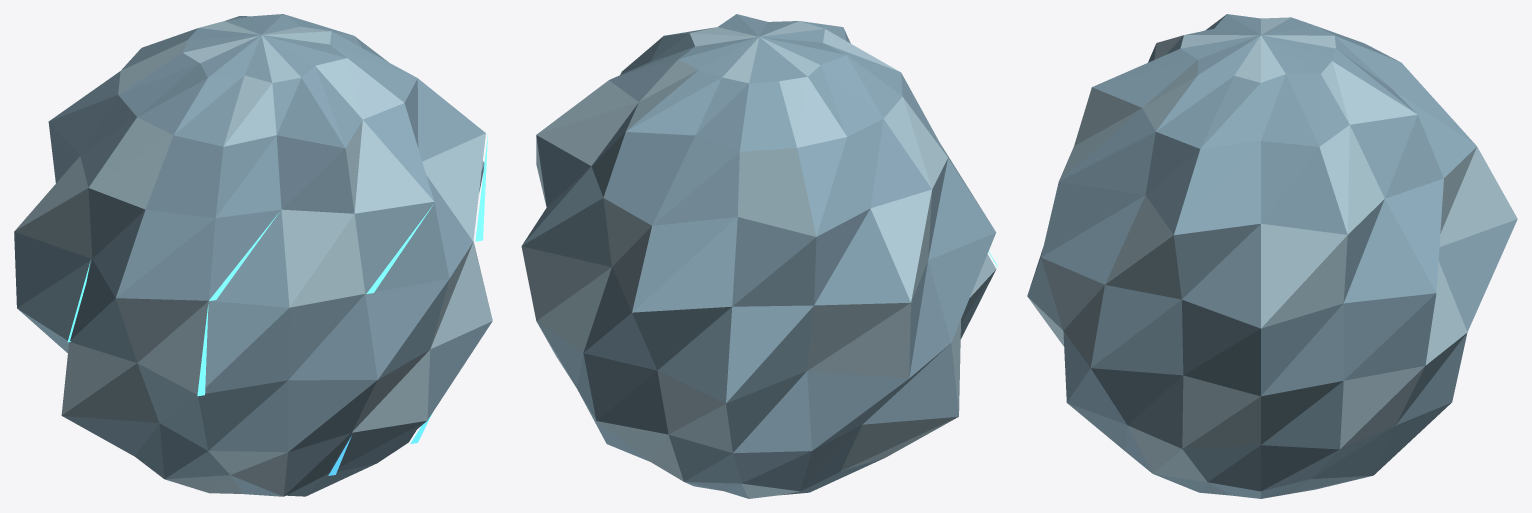
Rendered from cryo_shard.glb.
The picture shows the model from 3 angles, left to right: view 1: azimuth 30°, elevation 25°; view 2: azimuth 150°, elevation 25°; view 3: azimuth 270°, elevation 25°; orthographic projection.
Parts seen in each view (by area): view 1: Asteroid; view 2: Asteroid; view 3: Asteroid.
Part boxes in pixels (x1,y1,x2,y2): Asteroid: (14,14,492,496); Asteroid: (521,14,997,498); Asteroid: (1027,14,1517,498).
Bounding box in the file's own units: 2.16 × 2.16 × 2.16.
